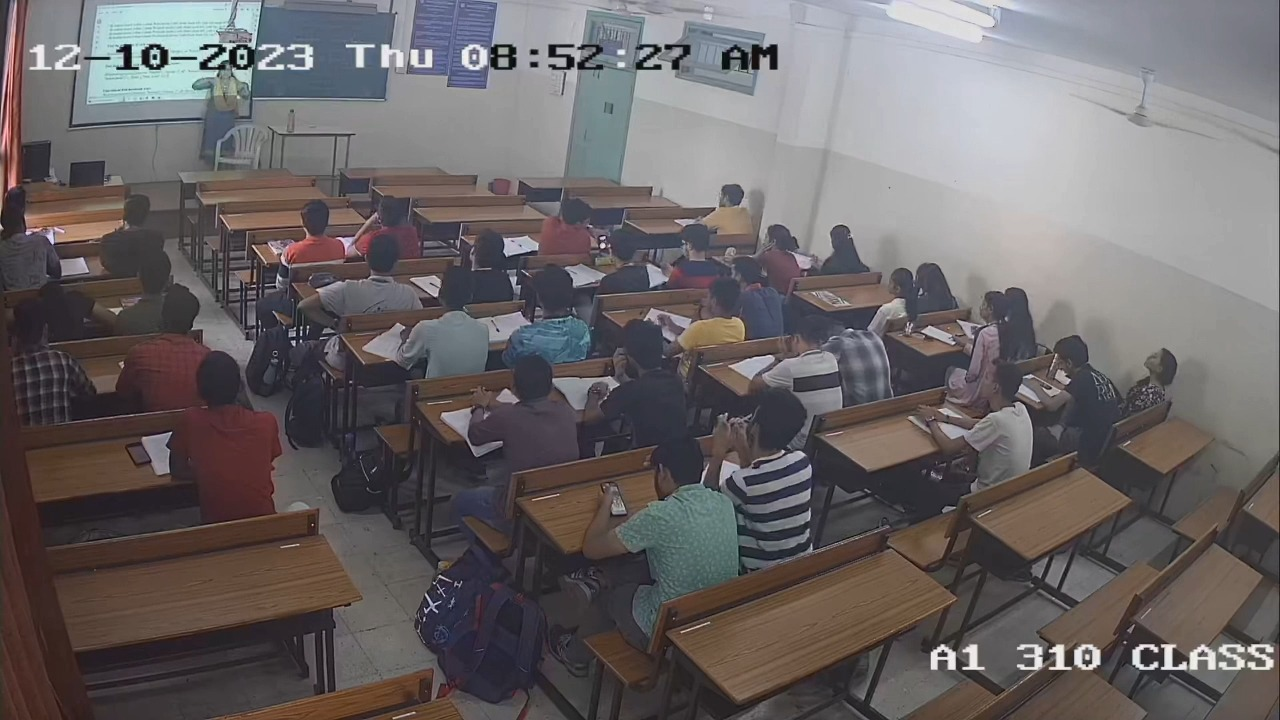cell-phones: (600, 480, 629, 517), (124, 441, 153, 468), (593, 254, 618, 267)
person: (608, 433, 739, 594), (167, 348, 281, 517), (658, 222, 732, 288)
